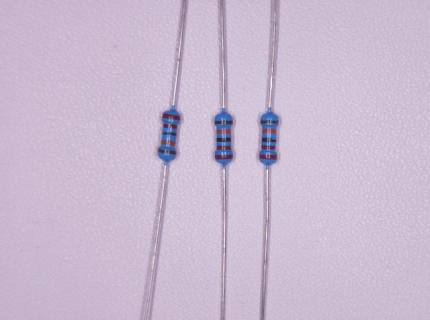Black band: (216, 137, 231, 142), (262, 137, 276, 142), (162, 131, 176, 136)
Brown band: (158, 148, 177, 155), (261, 120, 278, 124), (214, 121, 233, 124)
Orange band: (161, 140, 176, 146), (262, 129, 276, 134), (217, 129, 231, 134)
Red band: (162, 113, 180, 120), (259, 154, 278, 160), (163, 123, 177, 129), (214, 155, 233, 159), (216, 145, 231, 150), (261, 145, 276, 150)
